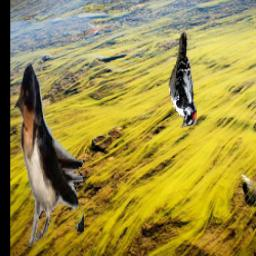Swallow: (14, 63, 85, 250)
Woodpecker: (168, 32, 197, 128)
